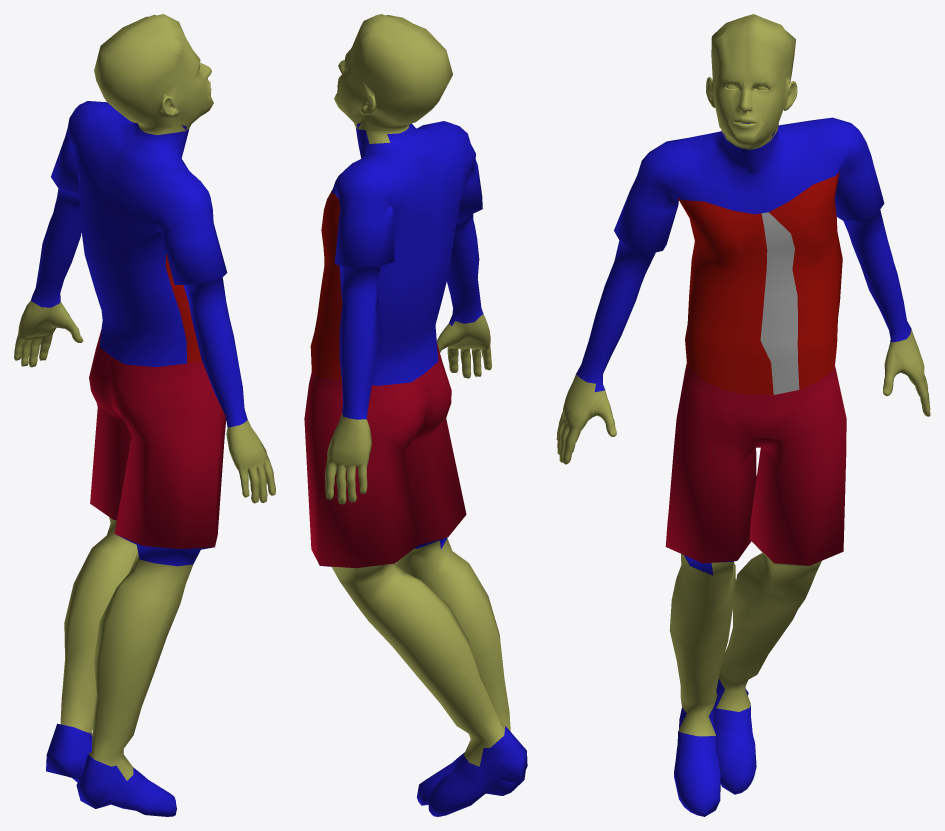
The model's file is player_000020.obj.
The picture shows the model from 3 angles, left to right: view 1: azimuth 30°, elevation 25°; view 2: azimuth 150°, elevation 25°; view 3: azimuth 270°, elevation 25°; orthographic projection. The views are drawn at different scales.
Parts seen in each view (by area): view 1: soccerplayer_mesh; view 2: soccerplayer_mesh; view 3: soccerplayer_mesh.
Boxes of the visible parts, box(x1,y1,x2,y2) form: soccerplayer_mesh: box(14, 14, 275, 816); soccerplayer_mesh: box(304, 14, 527, 816); soccerplayer_mesh: box(556, 14, 930, 816).
Bounding box in the file's own units: 1.27 × 5.48 × 2.32.
